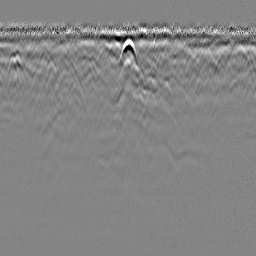cavity: (118, 37, 137, 68)
